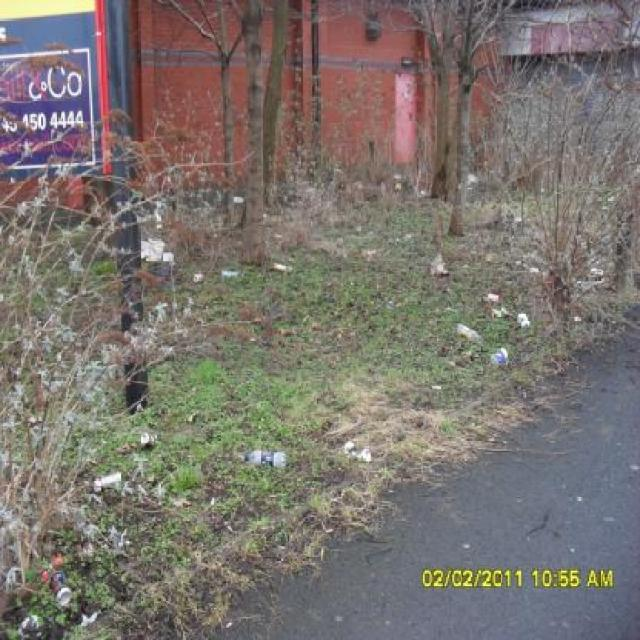garbage: (237, 443, 302, 478), (340, 431, 386, 480), (482, 285, 529, 329), (474, 346, 516, 376)
